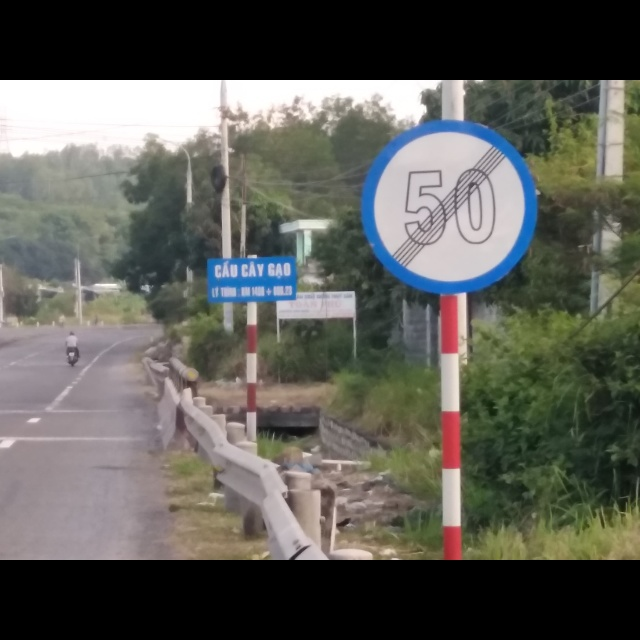Hết hạn chế tốc độ tối đa 50km/h: (362, 120, 542, 292)
